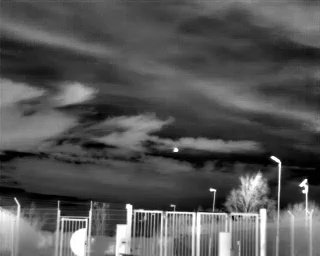HELICOPTER: (170, 143, 182, 156)
